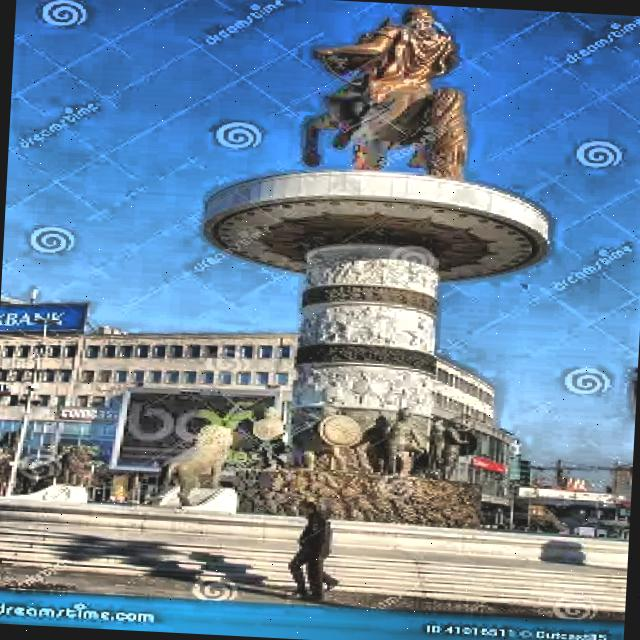alexander the great monument: (173, 0, 566, 536)
